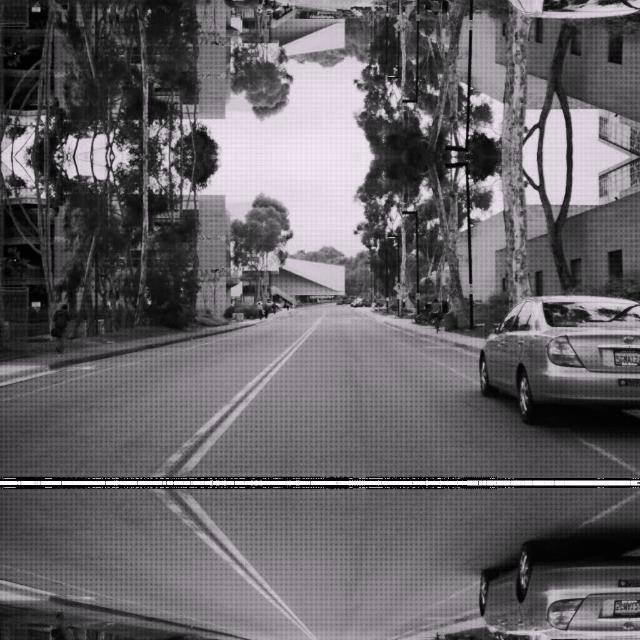pedestrianCrossing: (392, 280, 403, 292), (392, 20, 403, 32)
